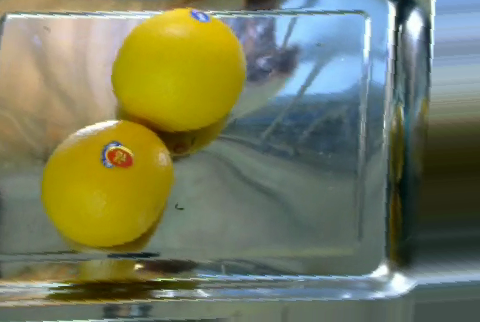Orange: (39, 118, 175, 244), (111, 7, 247, 132)
